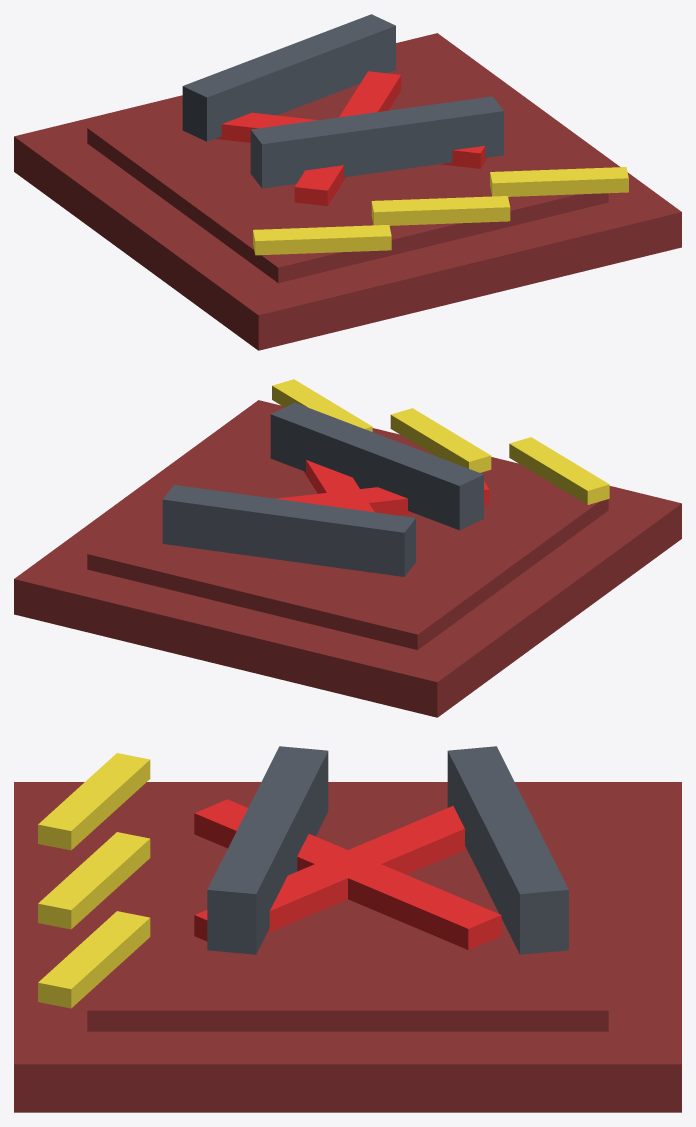
File: TD_BlockedTile.fbx
3 renders of one model, top to bottom at view 1: azimuth 30°, elevation 25°; view 2: azimuth 150°, elevation 25°; view 3: azimuth 270°, elevation 25°, orthographic. The views are drawn at different scales.
Parts seen in each view (by area): view 1: TD_BlockedTile_BasePlate, TD_BlockedTile_Surface, TD_BlockedTile_BlockadeBar_South, TD_BlockedTile_BlockadeBar_North, TD_BlockedTile_WarningStripe_01, TD_BlockedTile_WarningStripe_02, TD_BlockedTile_WarningStripe_03, TD_BlockedTile_BlockedX_A, TD_BlockedTile_BlockedX_B; view 2: TD_BlockedTile_BasePlate, TD_BlockedTile_Surface, TD_BlockedTile_BlockadeBar_North, TD_BlockedTile_BlockadeBar_South, TD_BlockedTile_WarningStripe_01, TD_BlockedTile_WarningStripe_02, TD_BlockedTile_BlockedX_B, TD_BlockedTile_WarningStripe_03, TD_BlockedTile_BlockedX_A; view 3: TD_BlockedTile_BasePlate, TD_BlockedTile_Surface, TD_BlockedTile_BlockadeBar_North, TD_BlockedTile_BlockadeBar_South, TD_BlockedTile_BlockedX_A, TD_BlockedTile_BlockedX_B, TD_BlockedTile_WarningStripe_01, TD_BlockedTile_WarningStripe_02, TD_BlockedTile_WarningStripe_03.
Boxes of the visible parts, x1=… form: TD_BlockedTile_BasePlate: x1=14, y1=33, x2=681, y2=350; TD_BlockedTile_Surface: x1=87, y1=47, x2=608, y2=282; TD_BlockedTile_BlockadeBar_South: x1=250, y1=96, x2=503, y2=188; TD_BlockedTile_BlockadeBar_North: x1=182, y1=14, x2=395, y2=141; TD_BlockedTile_WarningStripe_01: x1=253, y1=225, x2=391, y2=255; TD_BlockedTile_WarningStripe_02: x1=371, y1=196, x2=510, y2=225; TD_BlockedTile_WarningStripe_03: x1=490, y1=167, x2=628, y2=196; TD_BlockedTile_BlockedX_A: x1=294, y1=71, x2=401, y2=206; TD_BlockedTile_BlockedX_B: x1=215, y1=112, x2=487, y2=168; TD_BlockedTile_BasePlate: x1=14, y1=400, x2=681, y2=717; TD_BlockedTile_Surface: x1=87, y1=420, x2=608, y2=649; TD_BlockedTile_BlockadeBar_North: x1=162, y1=485, x2=415, y2=576; TD_BlockedTile_BlockadeBar_South: x1=270, y1=402, x2=483, y2=530; TD_BlockedTile_WarningStripe_01: x1=509, y1=437, x2=609, y2=504; TD_BlockedTile_WarningStripe_02: x1=390, y1=408, x2=491, y2=472; TD_BlockedTile_BlockedX_B: x1=303, y1=460, x2=374, y2=573; TD_BlockedTile_WarningStripe_03: x1=272, y1=379, x2=372, y2=431; TD_BlockedTile_BlockedX_A: x1=276, y1=481, x2=489, y2=515; TD_BlockedTile_BasePlate: x1=14, y1=782, x2=681, y2=1112; TD_BlockedTile_Surface: x1=87, y1=790, x2=608, y2=1031; TD_BlockedTile_BlockadeBar_North: x1=447, y1=746, x2=568, y2=954; TD_BlockedTile_BlockadeBar_South: x1=207, y1=746, x2=328, y2=954; TD_BlockedTile_BlockedX_A: x1=194, y1=799, x2=501, y2=949; TD_BlockedTile_BlockedX_B: x1=194, y1=806, x2=466, y2=941; TD_BlockedTile_WarningStripe_01: x1=38, y1=753, x2=150, y2=850; TD_BlockedTile_WarningStripe_02: x1=38, y1=832, x2=150, y2=929; TD_BlockedTile_WarningStripe_03: x1=38, y1=911, x2=150, y2=1008.
Size of the model in its own units: 100 by 25 by 100.
